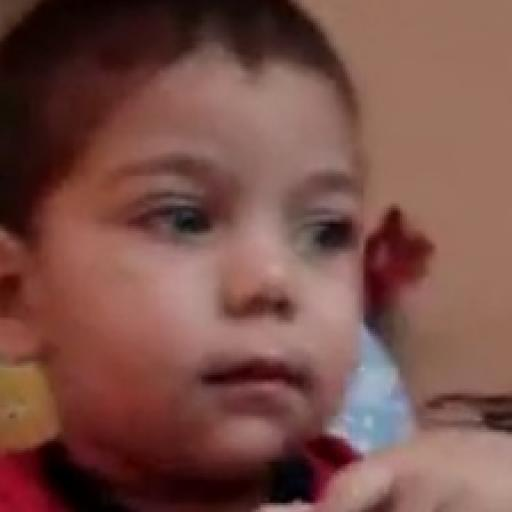Autism: (18, 22, 442, 512)
